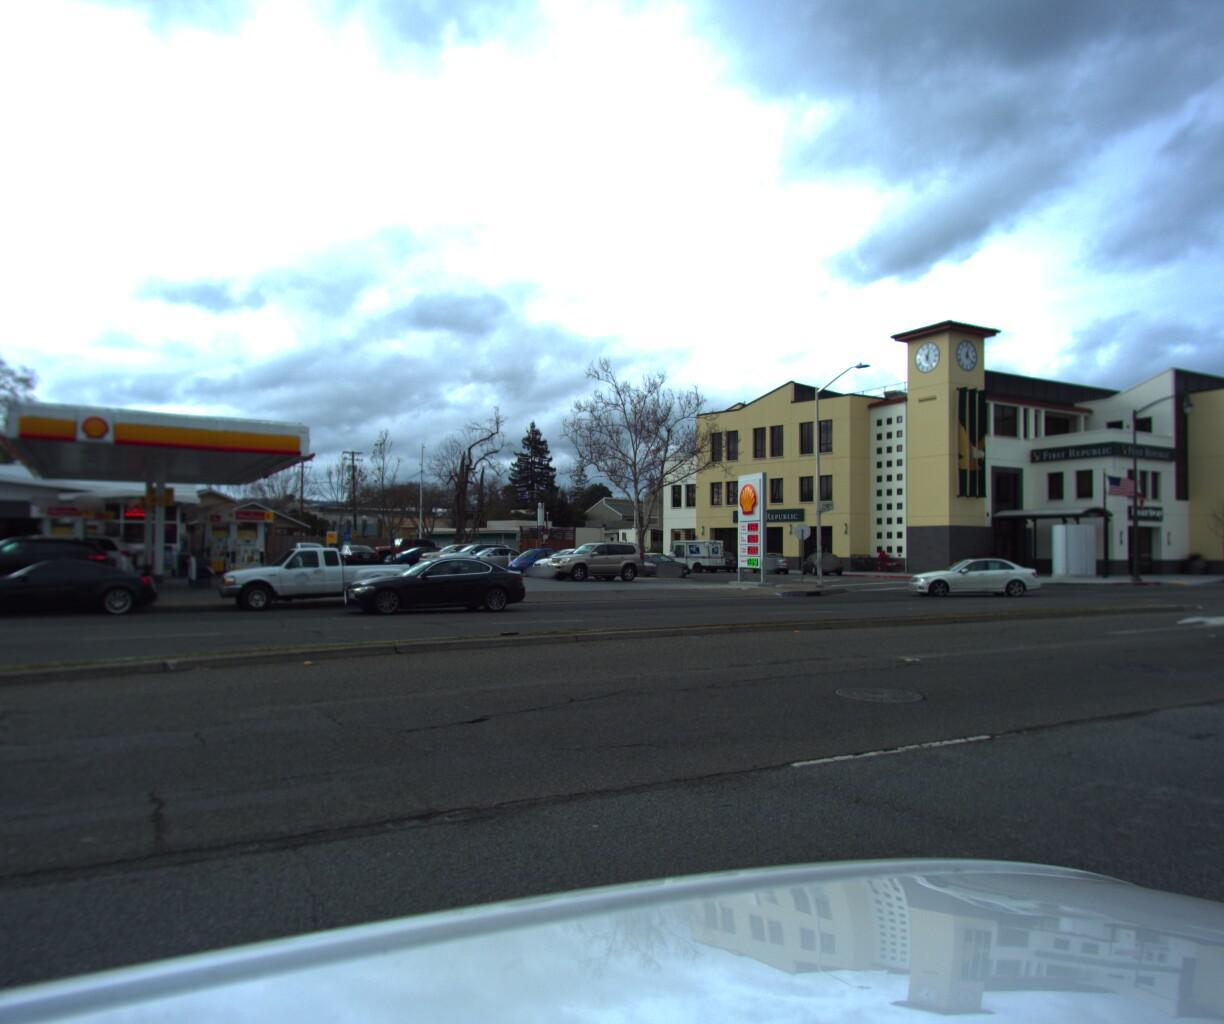car: (215, 543, 421, 615), (331, 553, 529, 617), (0, 557, 166, 622), (0, 525, 141, 590), (0, 530, 121, 596), (906, 540, 1049, 595), (537, 537, 651, 582), (413, 538, 506, 570), (430, 539, 523, 571), (444, 543, 540, 573), (375, 539, 466, 569), (527, 545, 614, 577), (3, 525, 67, 566), (503, 546, 594, 576), (364, 536, 446, 567), (617, 548, 699, 577), (1204, 542, 1224, 654), (325, 540, 390, 568), (797, 547, 847, 576), (748, 546, 794, 574), (700, 546, 741, 573)
other_vehicle: (652, 536, 729, 573)
